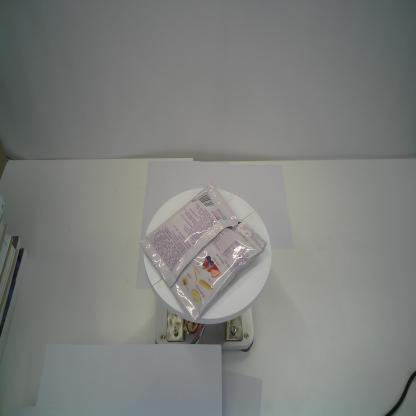Instant Drink: (138, 182, 267, 322)
